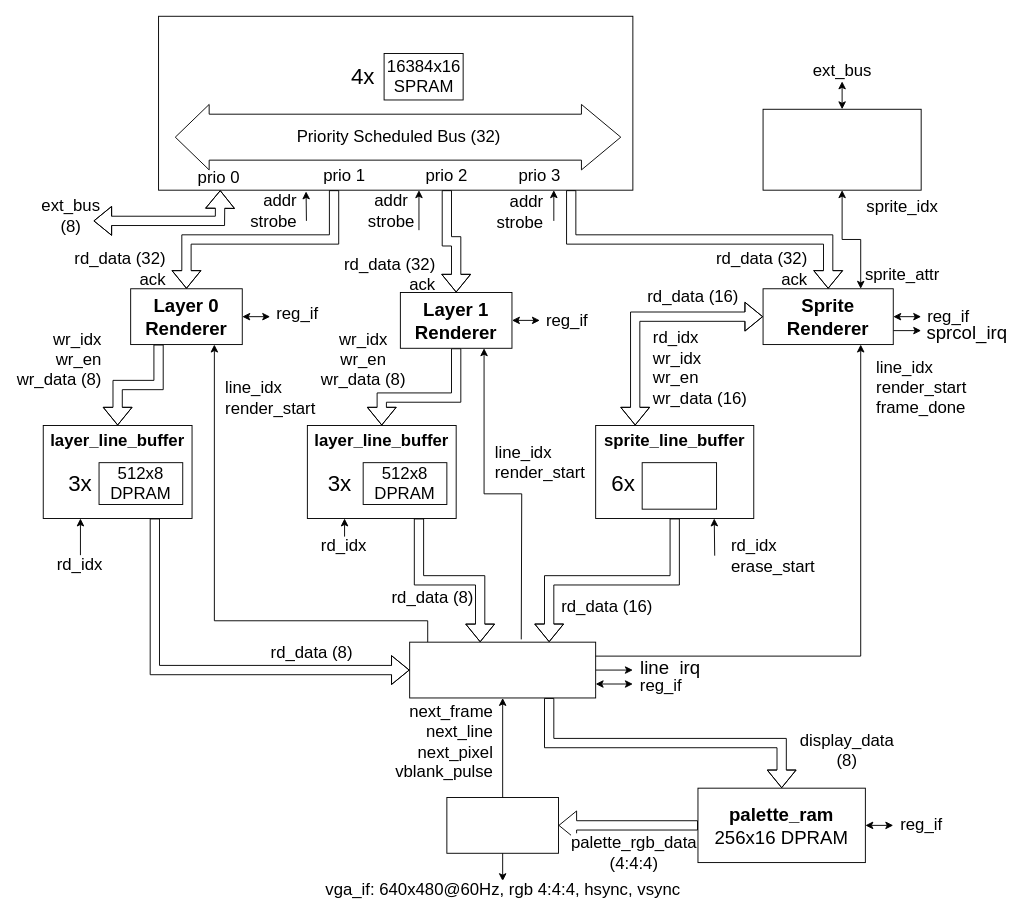
Image size: 1023x916. Some labels were removed from this diagram. The box of each missing label's shape, as (x1, y1, x2, y2) in pixels:
256x16 DPRAM: (641, 462, 717, 509)
Composer: (409, 641, 596, 698)
sprite_attr_ram 256x32 DPRAM: (762, 108, 921, 190)
video_vga: (446, 797, 558, 853)
vram_if: (158, 15, 633, 190)
